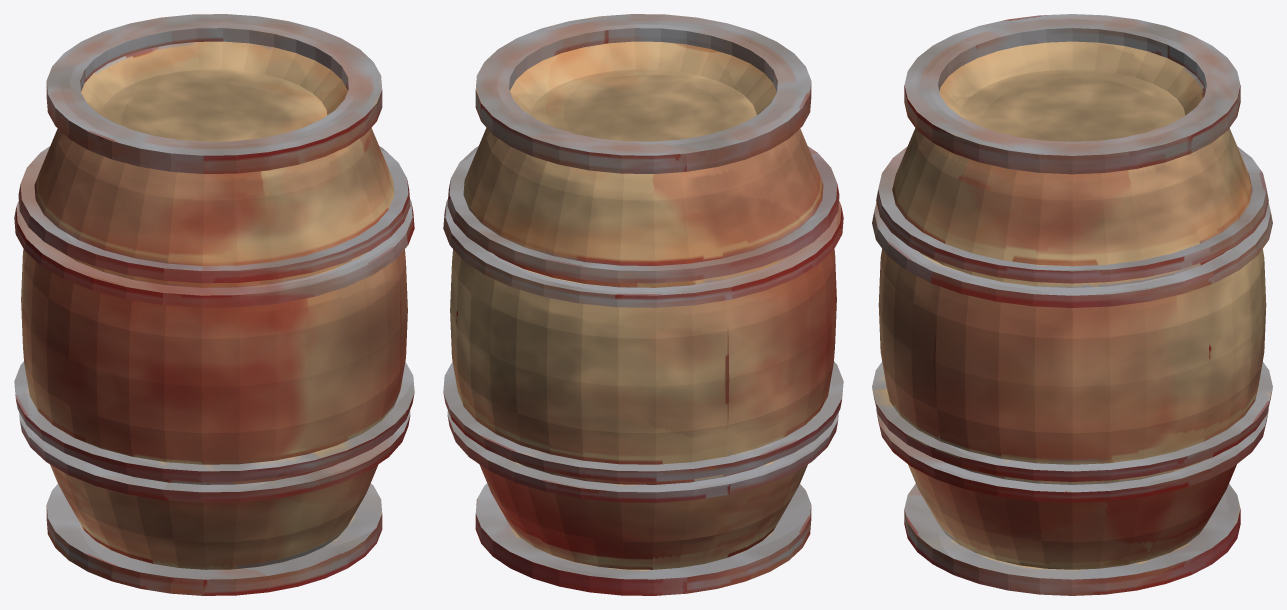
The model's file is Barrel (1).fbx.
3 views of the same model, side by side, from view 1: azimuth 30°, elevation 25°; view 2: azimuth 150°, elevation 25°; view 3: azimuth 270°, elevation 25° (orthographic).
Visible parts, largest first — view 1: Cylinder; view 2: Cylinder; view 3: Cylinder.
Boxes of the visible parts, bbox=[...] form: Cylinder: bbox=[14, 14, 414, 595]; Cylinder: bbox=[443, 14, 843, 595]; Cylinder: bbox=[872, 14, 1272, 595].
Size of the model in its own units: 749 by 907 by 749.
Materials: 1 (1 with a texture image).
